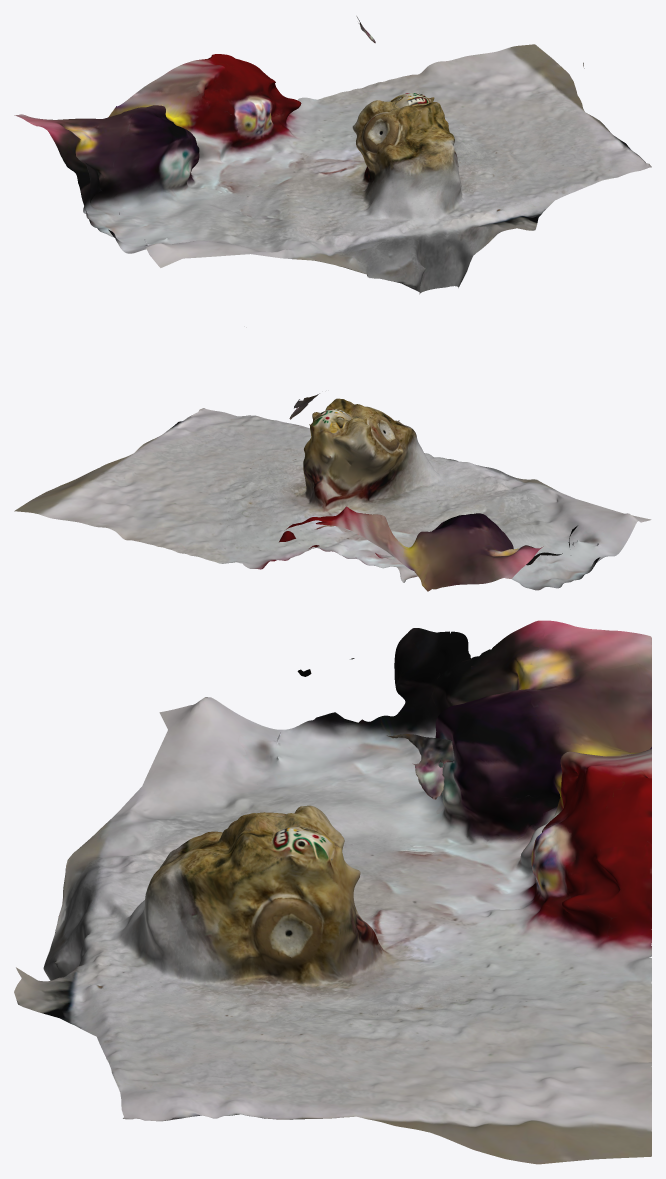
3 views of the same model, one above another, from view 1: azimuth 30°, elevation 25°; view 2: azimuth 150°, elevation 25°; view 3: azimuth 270°, elevation 25° (orthographic). The views are drawn at different scales.
Size of the model in its own units: 3.67 by 1.25 by 2.32.
Materials: 1 (1 with a texture image).
